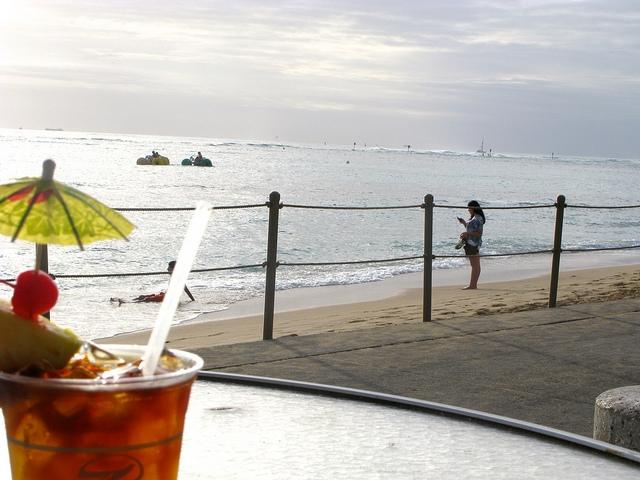cherry: (0, 269, 59, 316)
